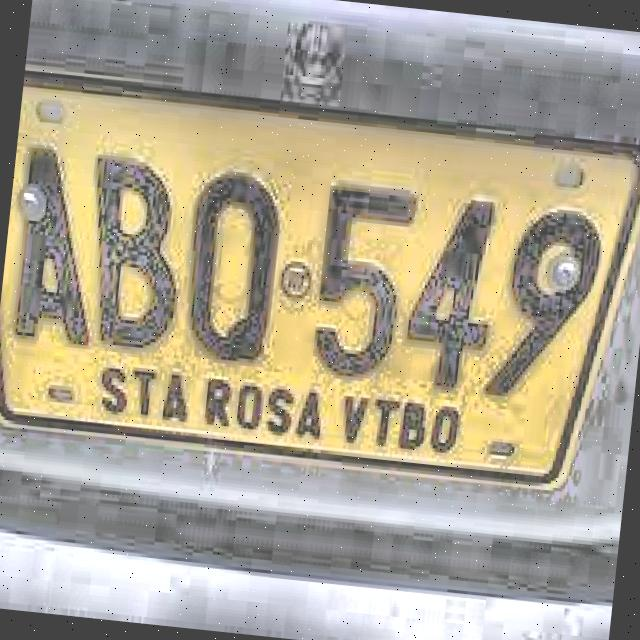4: (396, 188, 512, 398)
5: (305, 169, 432, 390)
9: (476, 202, 617, 420)
A: (4, 140, 96, 354)
B: (86, 148, 182, 358)
Q: (181, 162, 294, 374)
